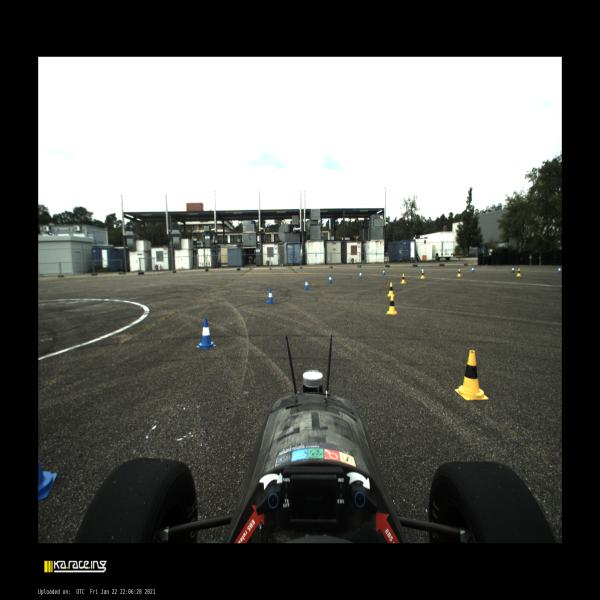blue_cone: (38, 456, 57, 502), (196, 318, 216, 349), (266, 288, 274, 304), (304, 279, 309, 290), (328, 274, 333, 284), (557, 266, 562, 274), (382, 268, 386, 276), (358, 271, 362, 278), (511, 265, 515, 272), (421, 266, 423, 274), (472, 266, 474, 272)
yellow_cone: (455, 350, 488, 400), (386, 296, 398, 315), (387, 282, 394, 296), (400, 274, 406, 283), (516, 268, 521, 276), (420, 271, 425, 279), (457, 269, 461, 276)
